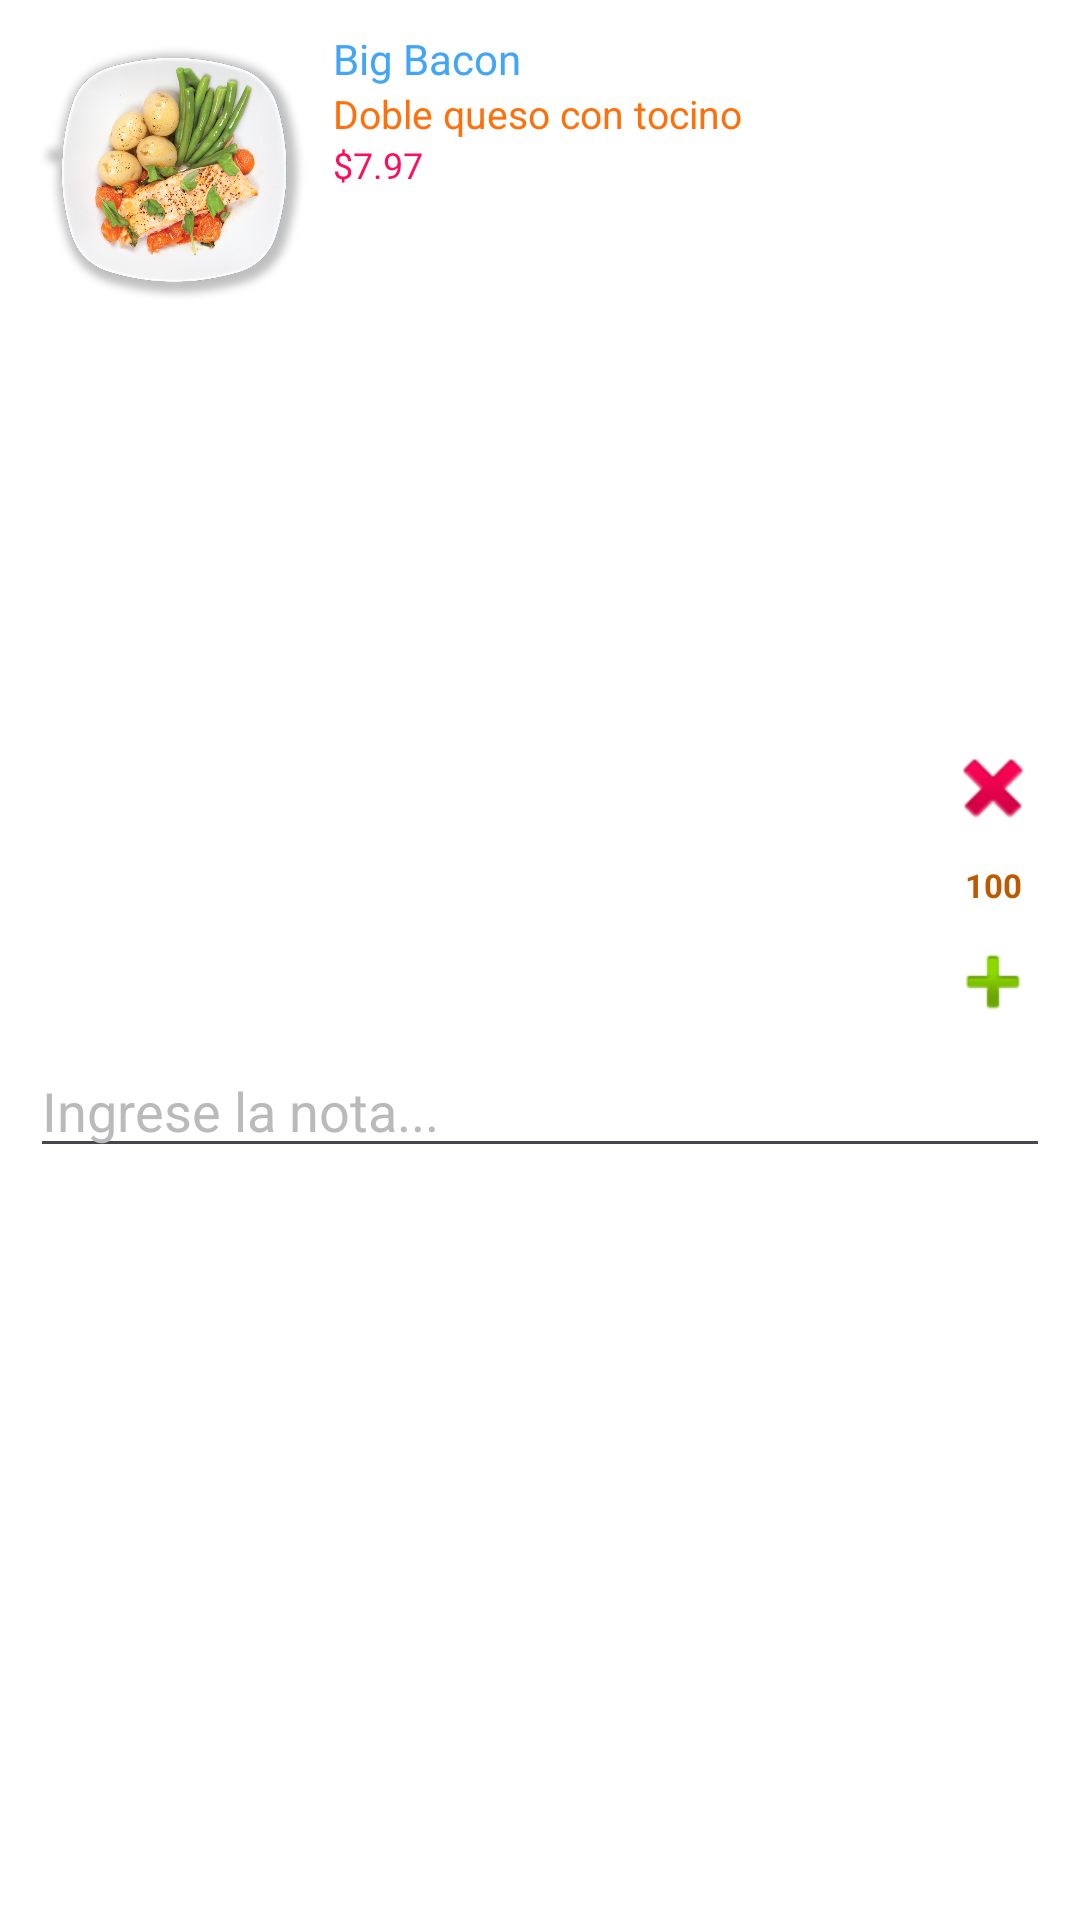

Icon bounding boxes for this 1080 x 1920 phone screenshot, format (x1, y1, x2, y2):
add: (966, 955, 1020, 1009)
delete: (963, 759, 1023, 818)
food: (44, 50, 302, 297)
